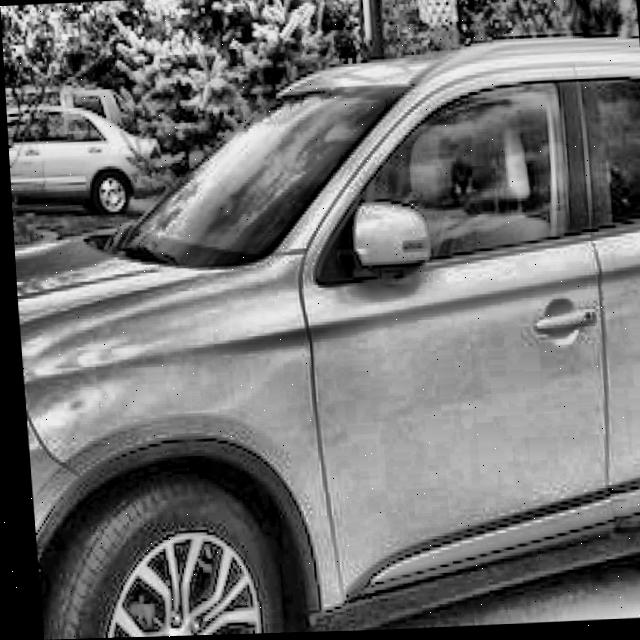light_vehicle: (2, 36, 640, 640)
